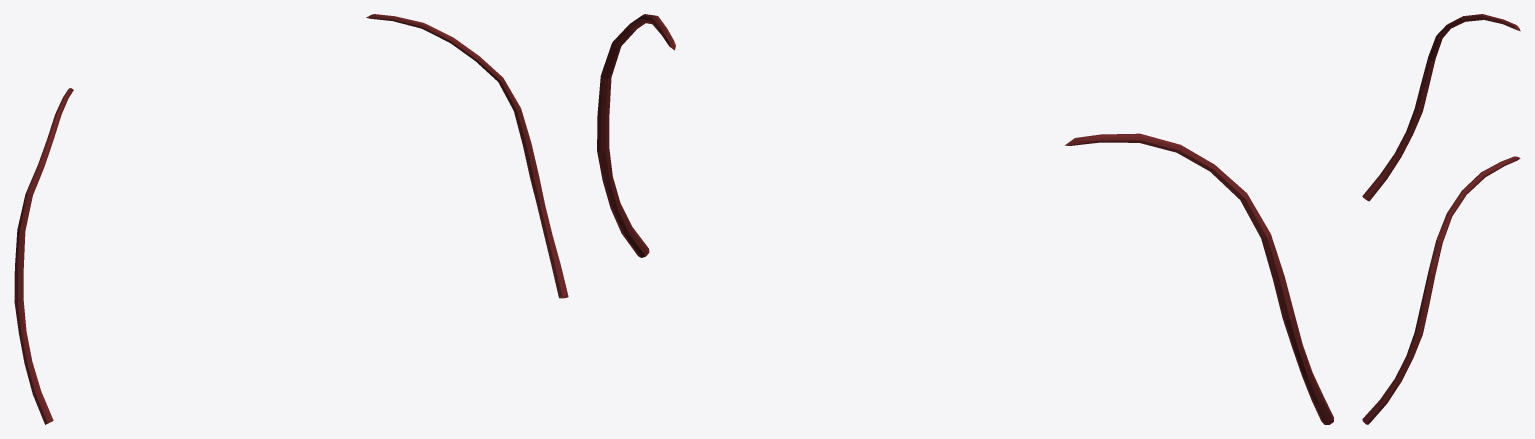
The model's file is Rama Parietal.FBX.
3 renders of one model, left to right at view 1: azimuth 30°, elevation 25°; view 2: azimuth 150°, elevation 25°; view 3: azimuth 270°, elevation 25°, orthographic. The views are drawn at different scales.
Parts seen in each view (by area): view 1: CS_Arterie; view 2: CS_Arterie; view 3: CS_Arterie.
Part boxes in pixels (x1,y1,x2,y2): CS_Arterie: (14,14,568,424); CS_Arterie: (597,14,1333,424); CS_Arterie: (1362,14,1520,424).
Bounding box in the file's own units: 503 × 228 × 147.
